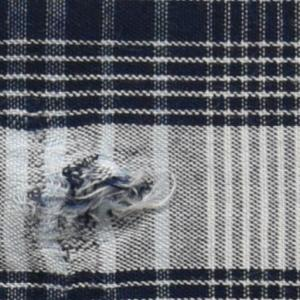Damage: (19, 110, 179, 296)
